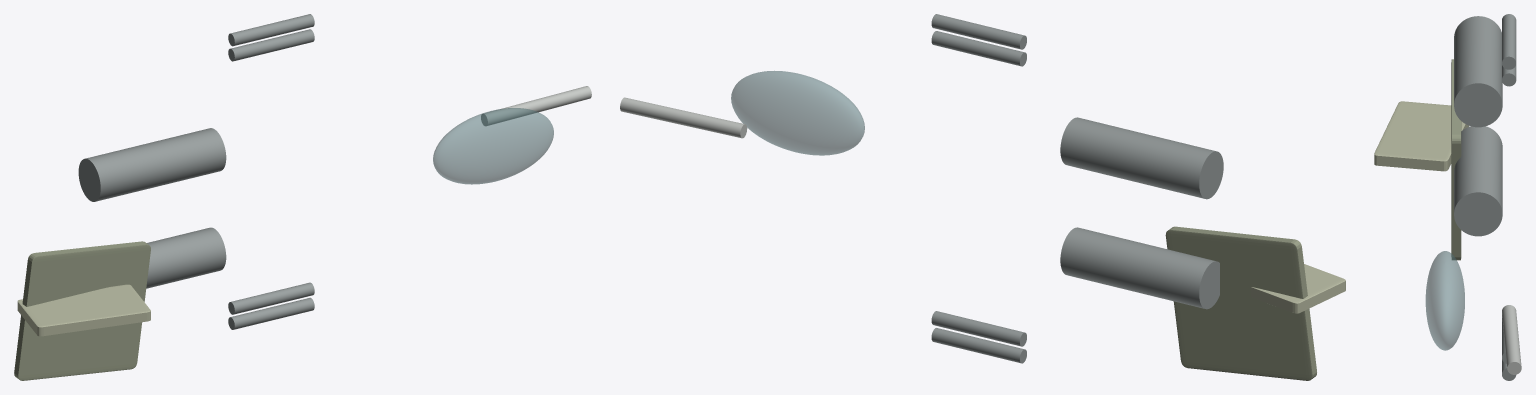
File: v-u23-vanguard-interceptor-lod2.glb
3 renders of one model, left to right at view 1: azimuth 30°, elevation 25°; view 2: azimuth 150°, elevation 25°; view 3: azimuth 270°, elevation 25°, orthographic. The views are drawn at different scales.
Parts seen in each view (by area): view 1: combat_tailplane_-1, combat_canopy, combat_engine_1, combat_fin_-1, combat_engine_0, combat_gun_barrel_0, combat_-1_tube_1, combat_-1_tube_2, combat_1_tube_1, combat_1_tube_2; view 2: combat_tailplane_-1, combat_canopy, combat_engine_1, combat_engine_0, combat_fin_-1, combat_gun_barrel_0, combat_1_tube_2, combat_-1_tube_2, combat_1_tube_1, combat_-1_tube_1; view 3: combat_engine_1, combat_engine_0, combat_fin_-1, combat_canopy, combat_tailplane_-1, combat_gun_barrel_0, combat_1_tube_2, combat_1_tube_1, combat_-1_tube_1.
Boxes of the visible parts, x1,y1,x2,y2 form: combat_tailplane_-1: [14, 241, 150, 380]; combat_canopy: [433, 108, 553, 184]; combat_engine_1: [78, 128, 226, 201]; combat_fin_-1: [17, 284, 150, 336]; combat_engine_0: [146, 227, 226, 288]; combat_gun_barrel_0: [481, 86, 591, 125]; combat_-1_tube_1: [228, 297, 314, 329]; combat_-1_tube_2: [228, 282, 314, 314]; combat_1_tube_1: [228, 29, 314, 61]; combat_1_tube_2: [228, 14, 314, 46]; combat_tailplane_-1: [1165, 226, 1316, 380]; combat_canopy: [731, 71, 864, 155]; combat_engine_1: [1060, 117, 1223, 199]; combat_engine_0: [1060, 227, 1219, 309]; combat_fin_-1: [1250, 264, 1345, 313]; combat_gun_barrel_0: [620, 97, 747, 138]; combat_1_tube_2: [931, 14, 1026, 49]; combat_-1_tube_2: [931, 311, 1026, 346]; combat_1_tube_1: [931, 31, 1026, 66]; combat_-1_tube_1: [931, 328, 1026, 363]; combat_engine_1: [1454, 16, 1502, 127]; combat_engine_0: [1454, 126, 1502, 236]; combat_fin_-1: [1374, 101, 1468, 171]; combat_canopy: [1425, 251, 1464, 350]; combat_tailplane_-1: [1451, 59, 1461, 260]; combat_gun_barrel_0: [1502, 305, 1521, 374]; combat_1_tube_2: [1502, 14, 1516, 69]; combat_1_tube_1: [1502, 65, 1516, 86]; combat_-1_tube_1: [1502, 359, 1516, 380].
Size of what is drawn, in the model's own units: 12.67 by 5.94 by 2.45.
